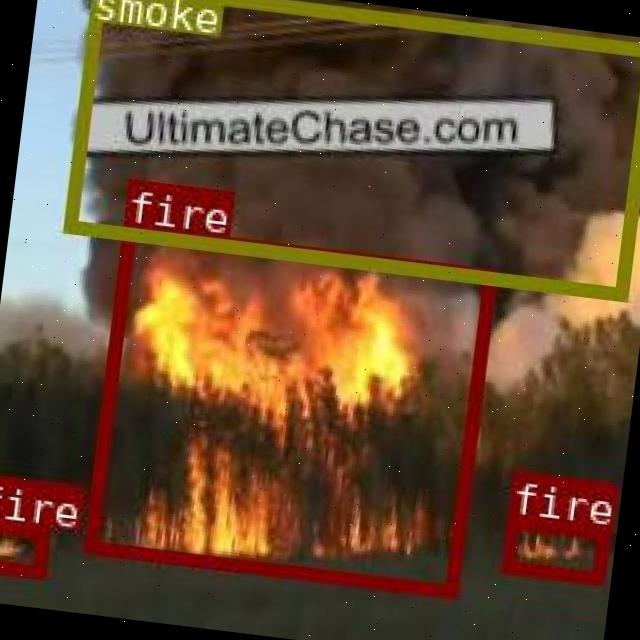fire: (82, 222, 494, 594), (498, 513, 608, 583), (0, 515, 46, 575)
smoke: (61, 0, 640, 298)
